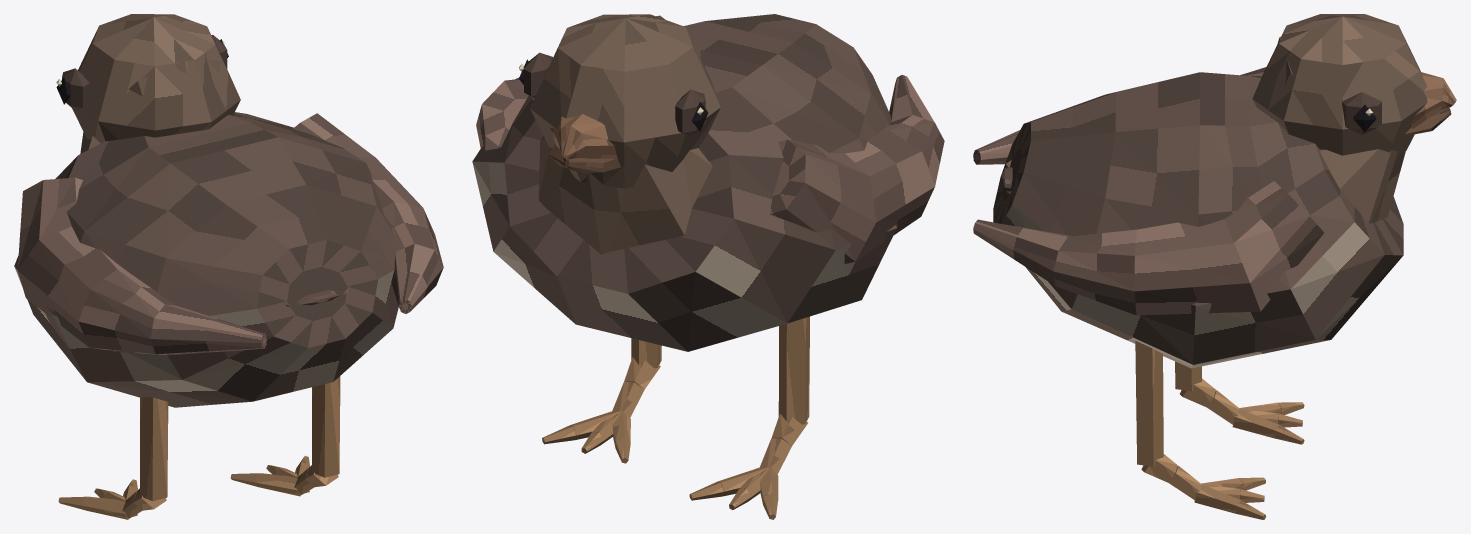
File: mon_pheasant_chick.glb
3 renders of one model, left to right at view 1: azimuth 30°, elevation 25°; view 2: azimuth 150°, elevation 25°; view 3: azimuth 270°, elevation 25°, orthographic. The views are drawn at different scales.
Parts seen in each view (by area): view 1: closed_body; view 2: closed_body; view 3: closed_body.
Part boxes in pixels (bbox=[...]): closed_body: bbox=[14, 14, 443, 519]; closed_body: bbox=[472, 14, 944, 519]; closed_body: bbox=[973, 14, 1456, 519].
Size of the model in its own units: 0.0813 by 0.0949 by 0.0927.
1 material, 1 textured.
